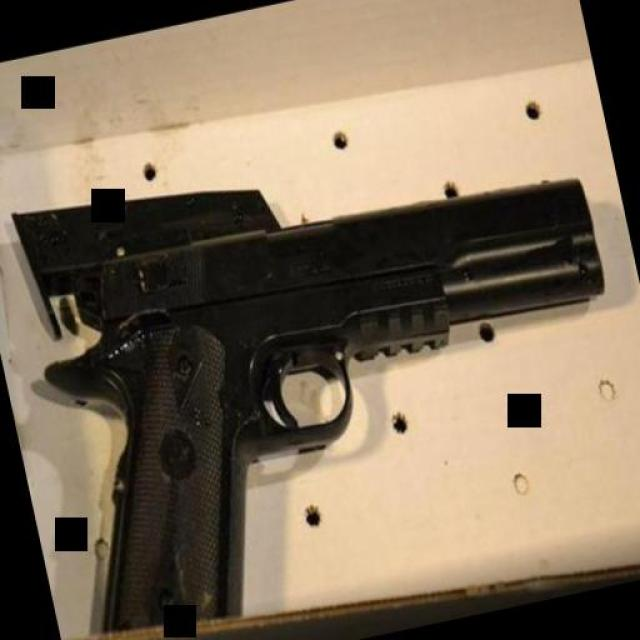gun: (17, 165, 640, 636)
